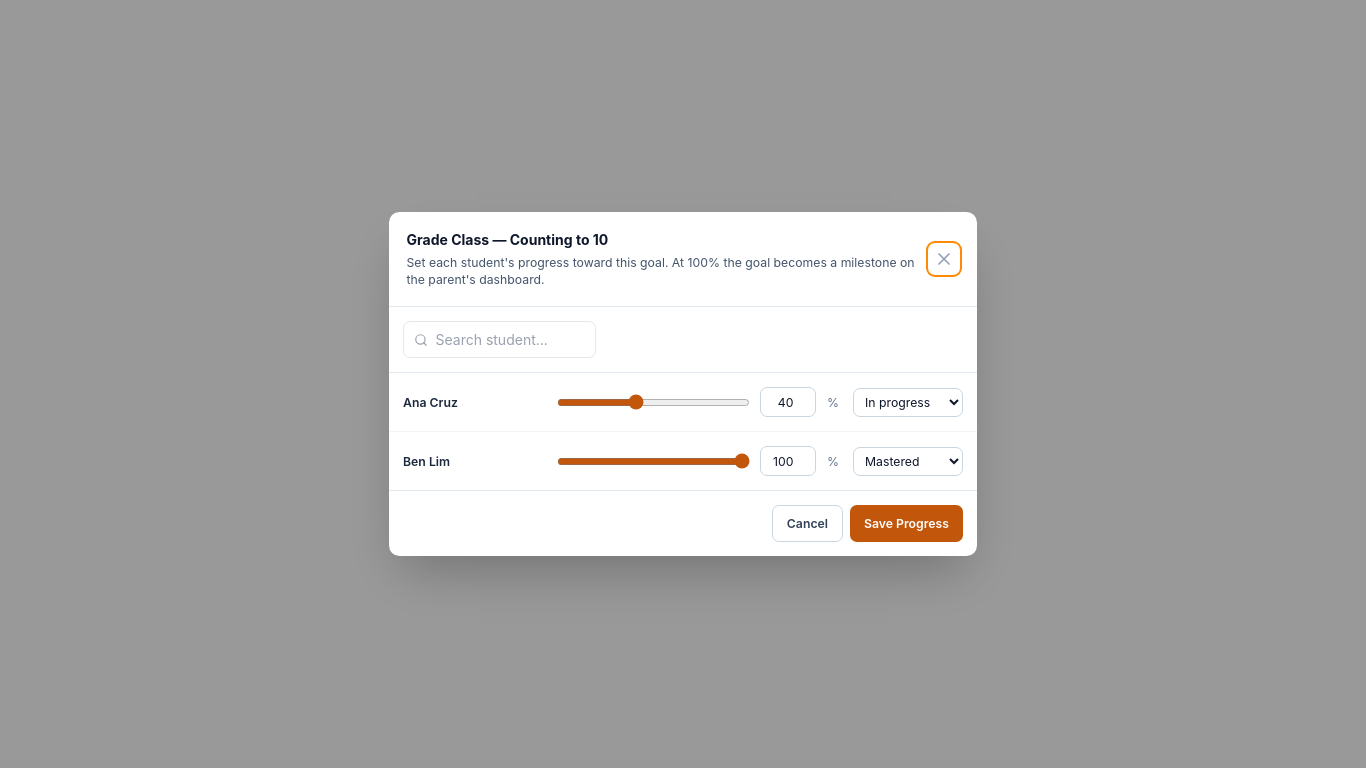
Test case: GradeGoalModal — Mastered means 100% › choosing Mastered moves the student to 100%
Select "Mastered" in the dropdown named "Ana Cruz status" at (908, 402), box [853,388,963,417]
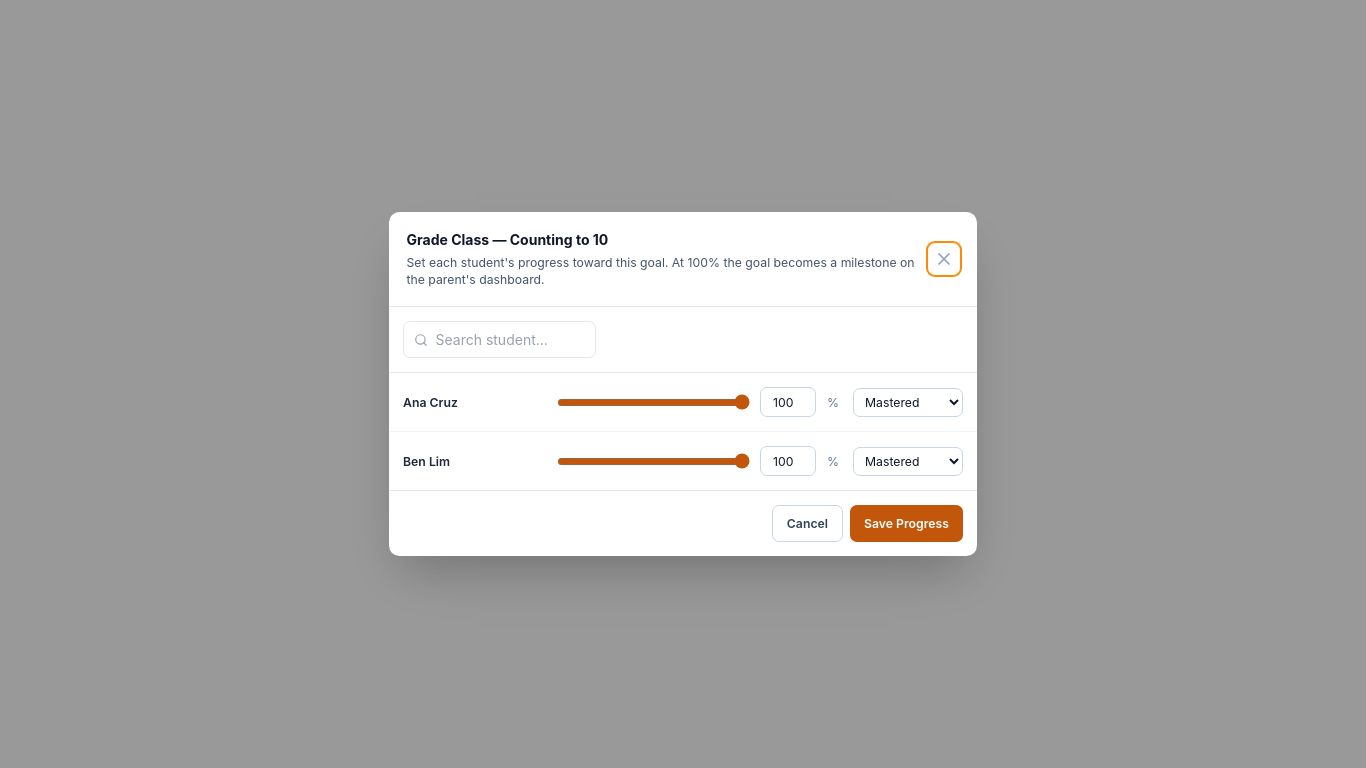
Result: the number field named "Ana Cruz progress percent" holds "100" at [760,387,816,417]
